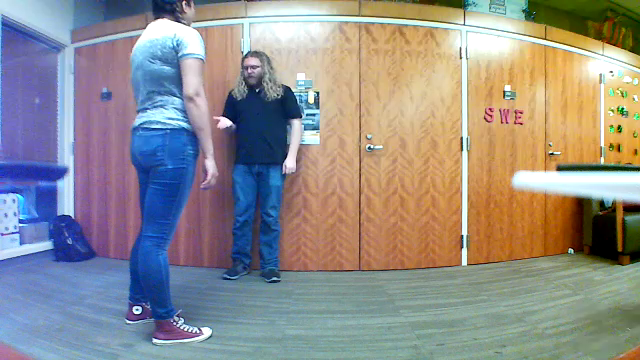land: (210, 110, 237, 135)
